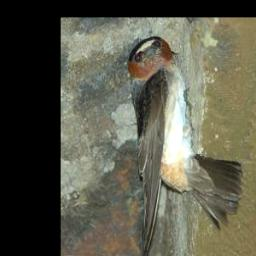Swallow: (126, 35, 243, 256)
